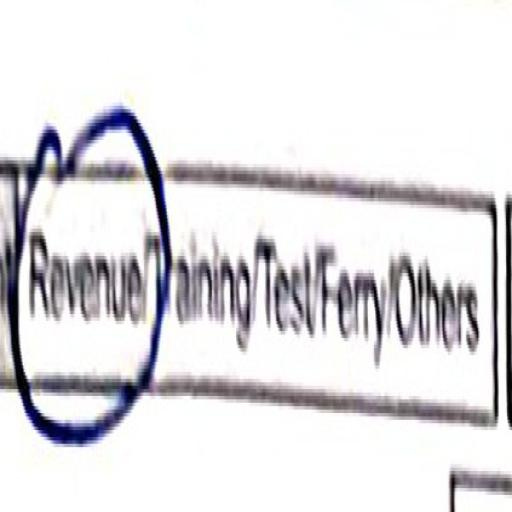check: (4, 75, 154, 472)
